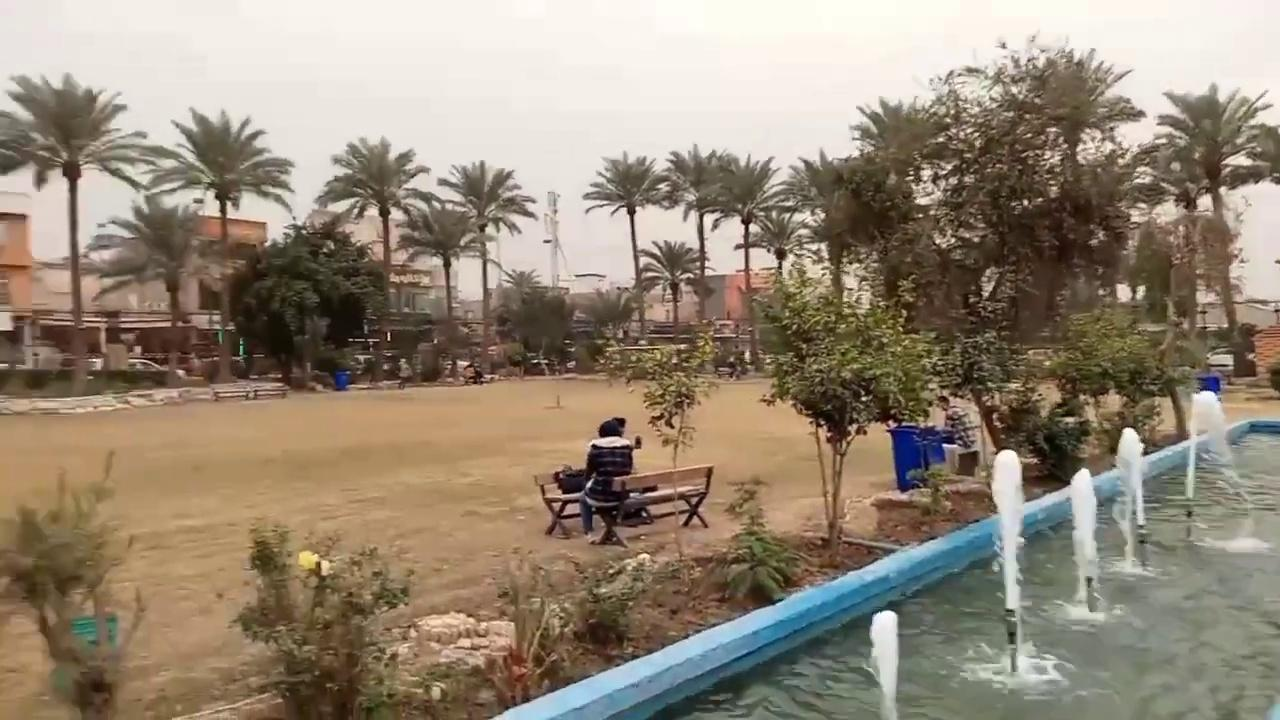car: (1205, 346, 1257, 380), (1224, 418, 1279, 447)
fountain: (488, 391, 1278, 718), (1051, 466, 1106, 623)
person: (579, 418, 642, 547), (397, 358, 412, 389), (461, 362, 477, 385)
tree: (922, 35, 1149, 346), (753, 270, 942, 563), (1130, 80, 1278, 368), (142, 105, 295, 383), (0, 70, 151, 329), (227, 516, 415, 718), (1, 447, 139, 716), (75, 192, 228, 384), (585, 323, 720, 531), (829, 95, 947, 323), (1043, 300, 1198, 460), (244, 213, 384, 386), (315, 133, 431, 340), (436, 158, 537, 373), (697, 151, 787, 368), (581, 150, 676, 339), (393, 192, 488, 379), (929, 325, 1030, 478), (780, 147, 874, 308), (660, 142, 730, 321), (491, 268, 574, 373), (636, 238, 702, 332), (567, 285, 646, 341), (749, 209, 807, 281), (541, 189, 565, 291), (499, 267, 541, 306)
